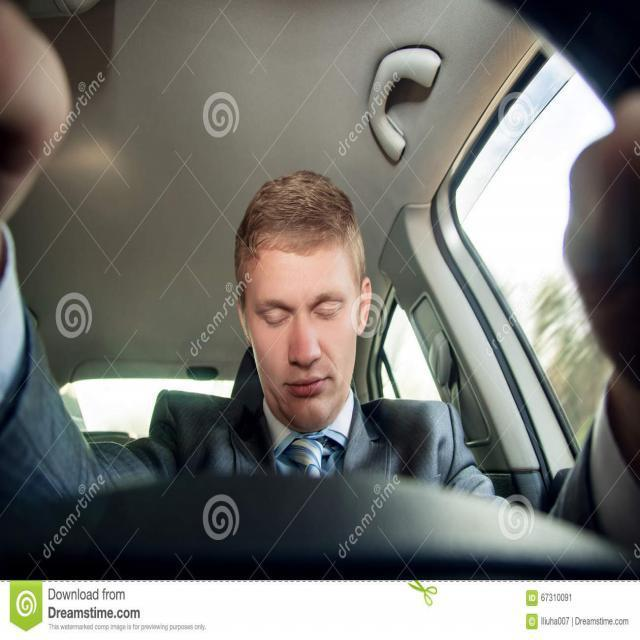no-seatbelt: (252, 296, 350, 335)
